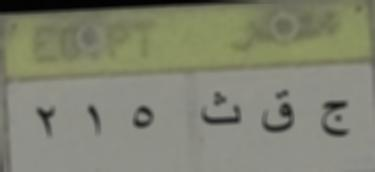1: (80, 99, 110, 140)
2: (32, 98, 63, 145)
5: (124, 102, 162, 141)
jeem: (316, 93, 351, 146)
qaaf: (258, 84, 299, 136)
thaa: (200, 88, 246, 134)
